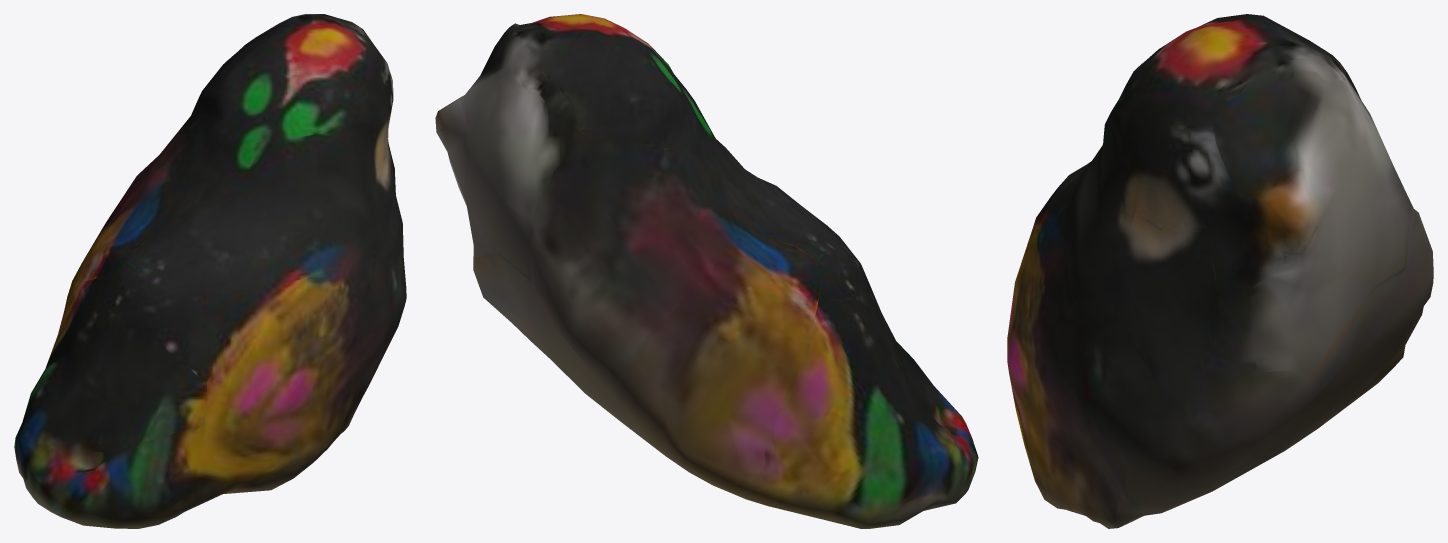
File: hall.glb
The picture shows the model from 3 angles, left to right: view 1: azimuth 30°, elevation 25°; view 2: azimuth 150°, elevation 25°; view 3: azimuth 270°, elevation 25°; orthographic projection. The views are drawn at different scales.
Bounding box in the file's own units: 0.4342 × 0.3949 × 0.2787.
1 material, 1 textured.
